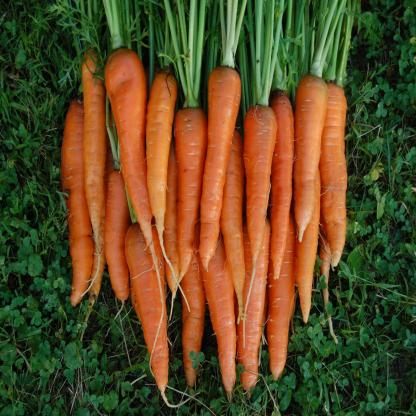--: (197, 57, 240, 271), (104, 37, 148, 242), (244, 90, 278, 295), (292, 67, 330, 244), (144, 60, 178, 244)
